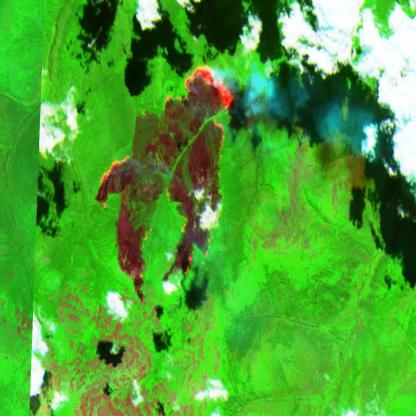fire: (91, 61, 240, 306)
